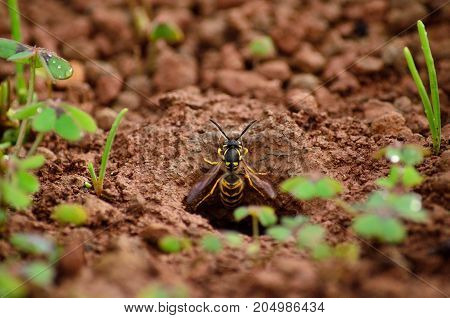chax: (186, 113, 279, 212)
